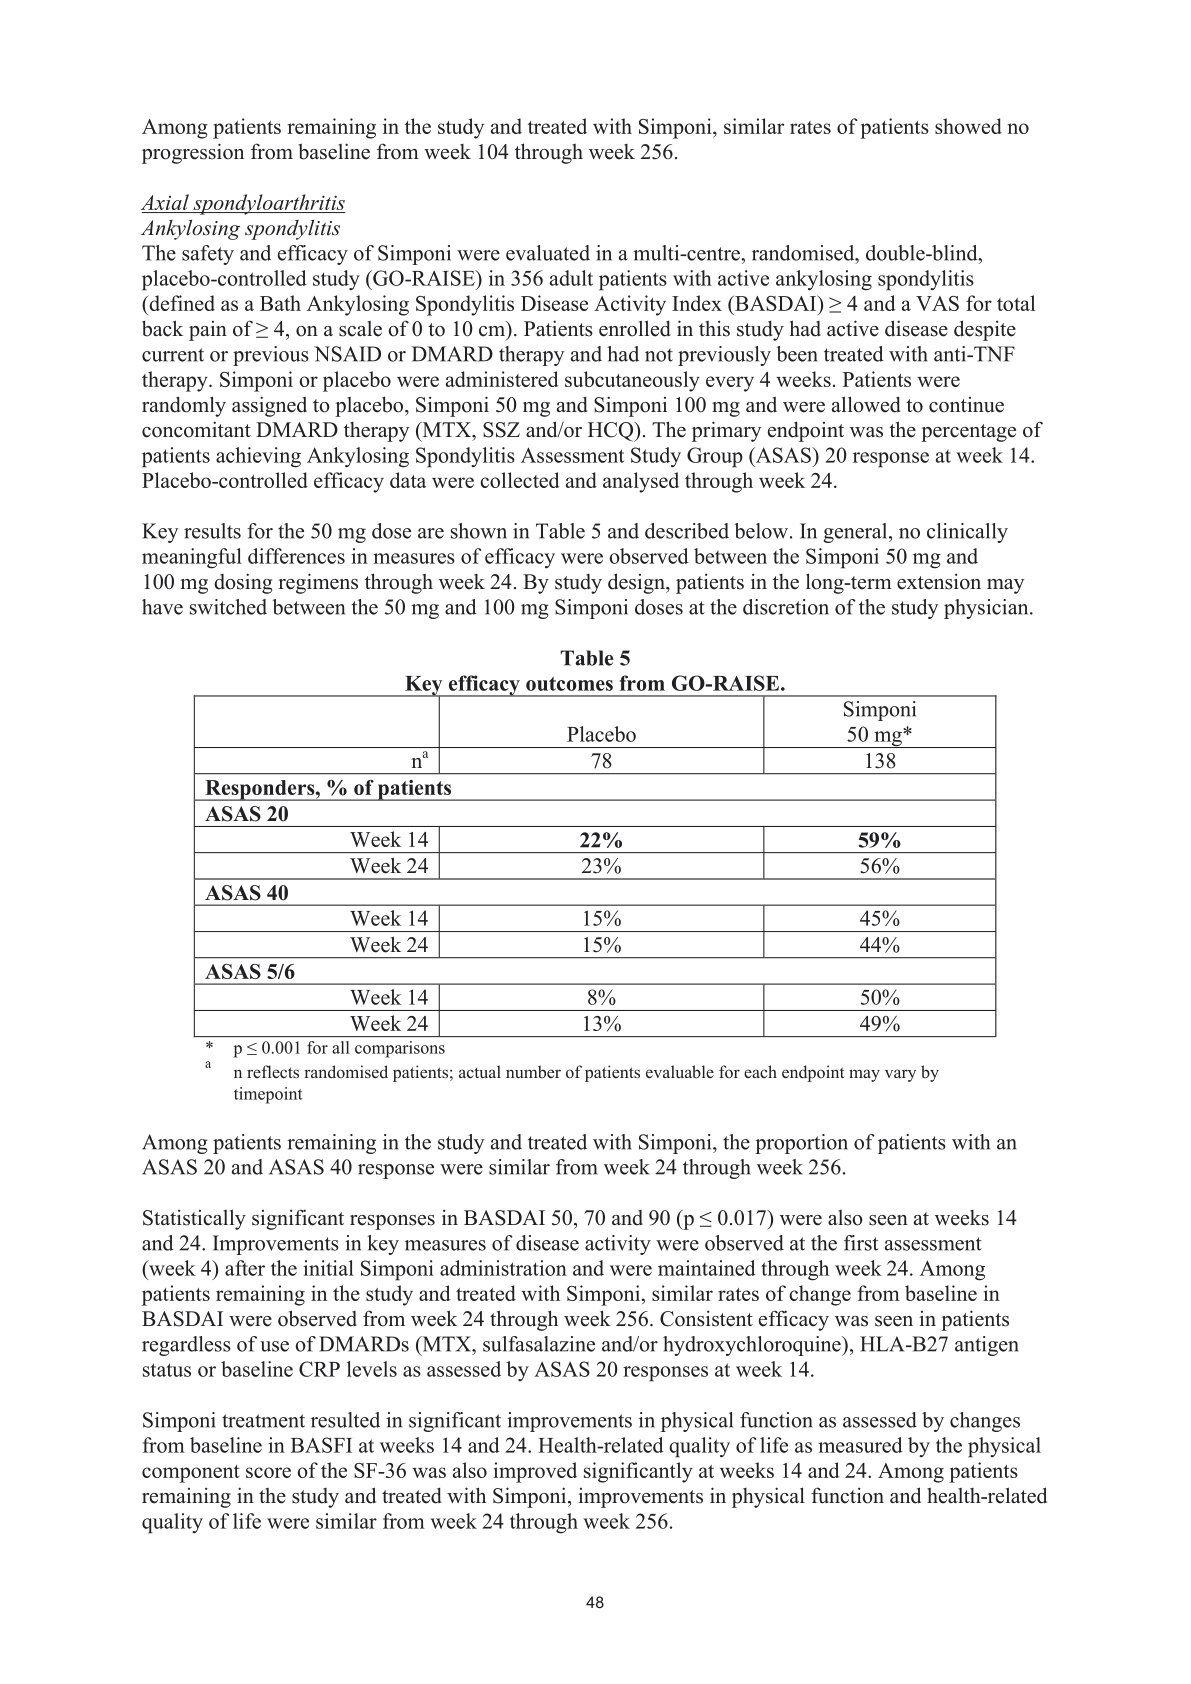merged_cells: (192, 694, 996, 1038)
